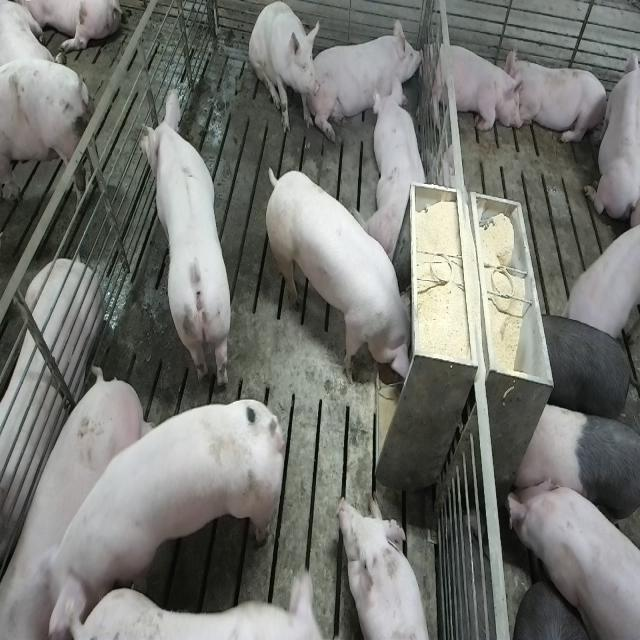Feeding: (270, 166, 422, 390)
Lateral_lying: (0, 370, 153, 640), (0, 256, 103, 615)
Sitting: (249, 2, 320, 137)
Standing: (42, 389, 289, 629), (138, 82, 234, 386), (504, 473, 638, 640), (510, 400, 638, 561), (538, 310, 638, 430), (563, 217, 640, 348)
Sternal_lying: (338, 492, 437, 638), (314, 12, 424, 136), (367, 77, 430, 258), (424, 36, 524, 137), (584, 40, 637, 225), (509, 51, 609, 149)
